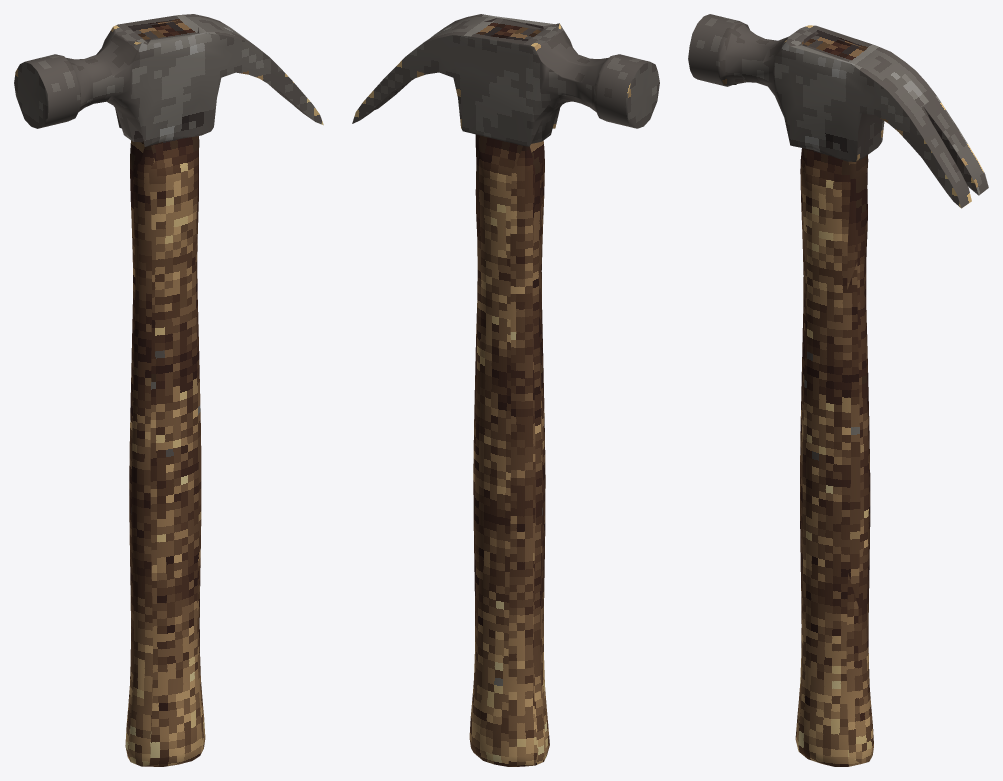
File: wooden_hammer_01.glb
The picture shows the model from 3 angles, left to right: view 1: azimuth 30°, elevation 25°; view 2: azimuth 150°, elevation 25°; view 3: azimuth 330°, elevation 25°; orthographic projection. The views are drawn at different scales.
Visible parts, largest first — view 1: body; view 2: body; view 3: body.
Part boxes in pixels (x1,y1,x2,y2): body: [14, 14, 323, 766]; body: [352, 14, 659, 766]; body: [688, 14, 988, 766].
Bounding box in the file's own units: 0.1113 × 0.2792 × 0.0233.
1 material, 1 textured.
